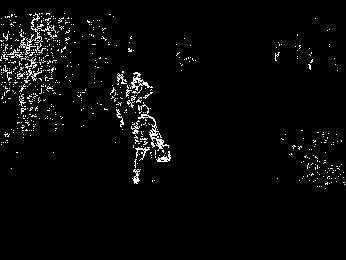person: (132, 105, 170, 184), (111, 69, 129, 127), (128, 70, 154, 104)
